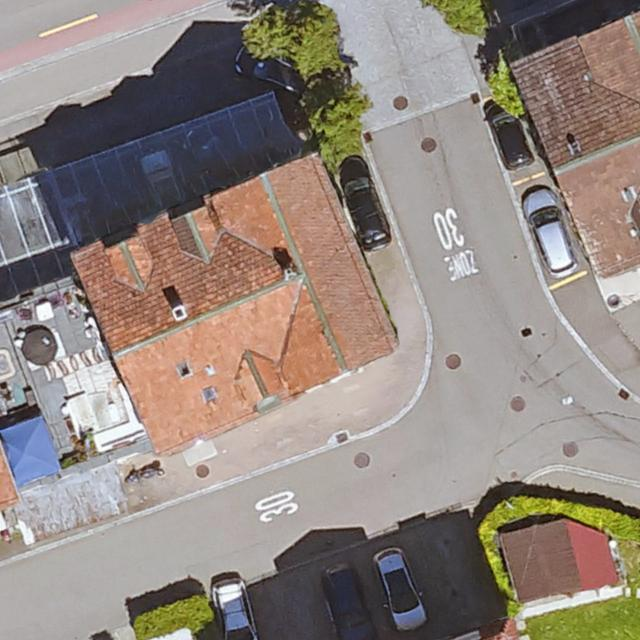tree: (299, 80, 367, 162), (288, 4, 341, 74), (493, 57, 539, 115), (241, 11, 295, 58)
